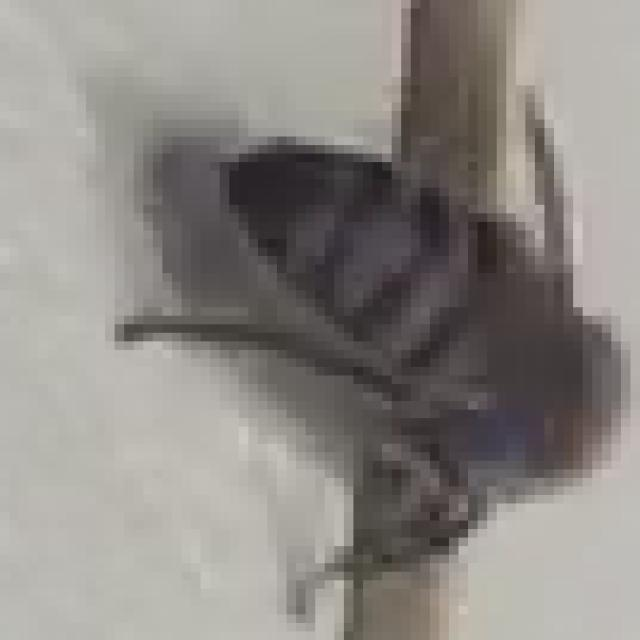honeybee: (105, 77, 640, 640)
